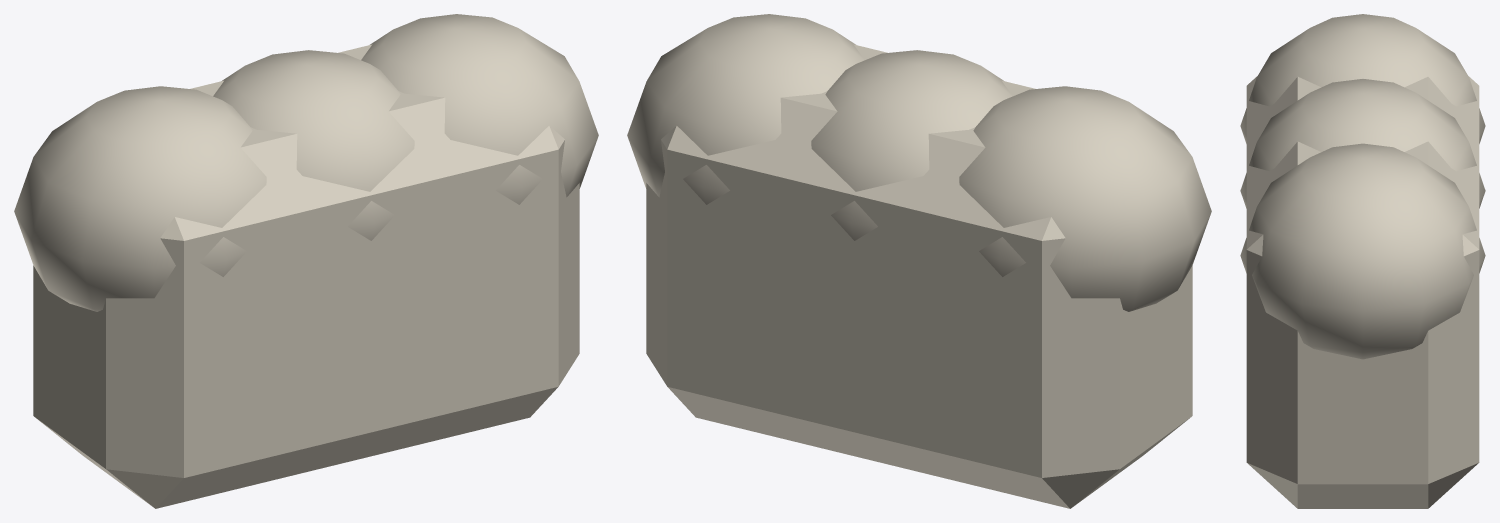
File: crown.glb
3 renders of one model, left to right at view 1: azimuth 30°, elevation 25°; view 2: azimuth 150°, elevation 25°; view 3: azimuth 270°, elevation 25°, orthographic. The views are drawn at different scales.
Visible parts, largest first — view 1: crown; view 2: crown; view 3: crown.
Part boxes in pixels (<box>): crown: <box>14,14,598,508</box>; crown: <box>627,14,1211,508</box>; crown: <box>1240,14,1485,508</box>.
Size of the model in its own units: 0.4185 by 0.27 by 0.18.
